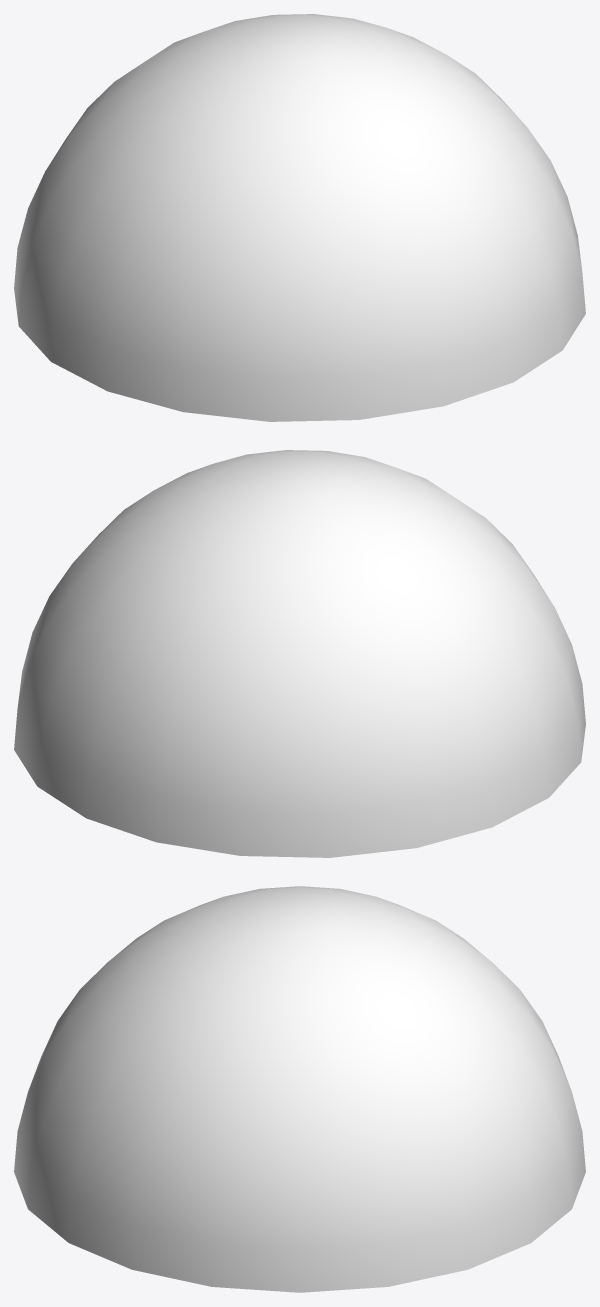
Rendered from button_1_topper.fbx.
3 renders of one model, top to bottom at view 1: azimuth 30°, elevation 25°; view 2: azimuth 150°, elevation 25°; view 3: azimuth 270°, elevation 25°, orthographic.
Visible parts, largest first — view 1: pSphere1; view 2: pSphere1; view 3: pSphere1.
Part boxes in pixels (bbox=[...]): pSphere1: bbox=[14, 14, 585, 421]; pSphere1: bbox=[14, 450, 585, 857]; pSphere1: bbox=[14, 886, 585, 1292].
Size of the model in its own units: 10.32 by 5.16 by 10.32.
Materials: 1 (1 with a texture image).
